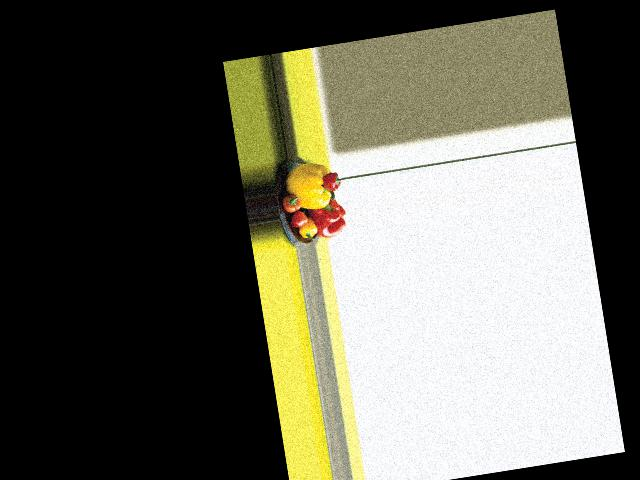bell_pepper: (298, 219, 319, 241)
